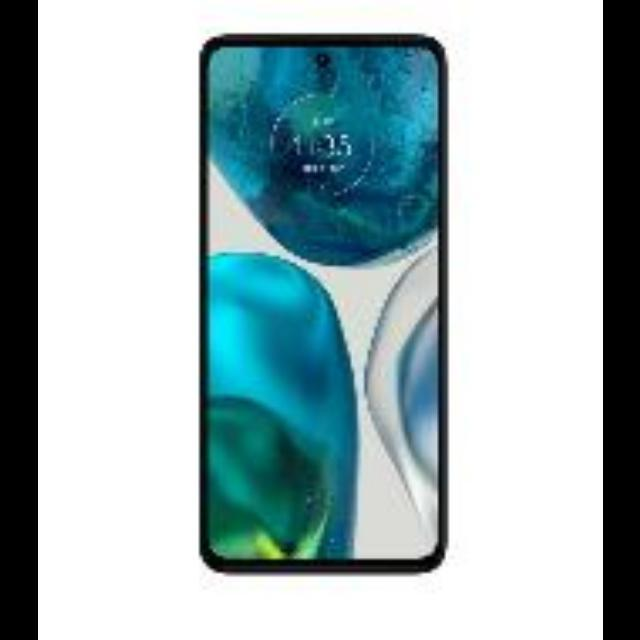Phone: (198, 39, 448, 574)
